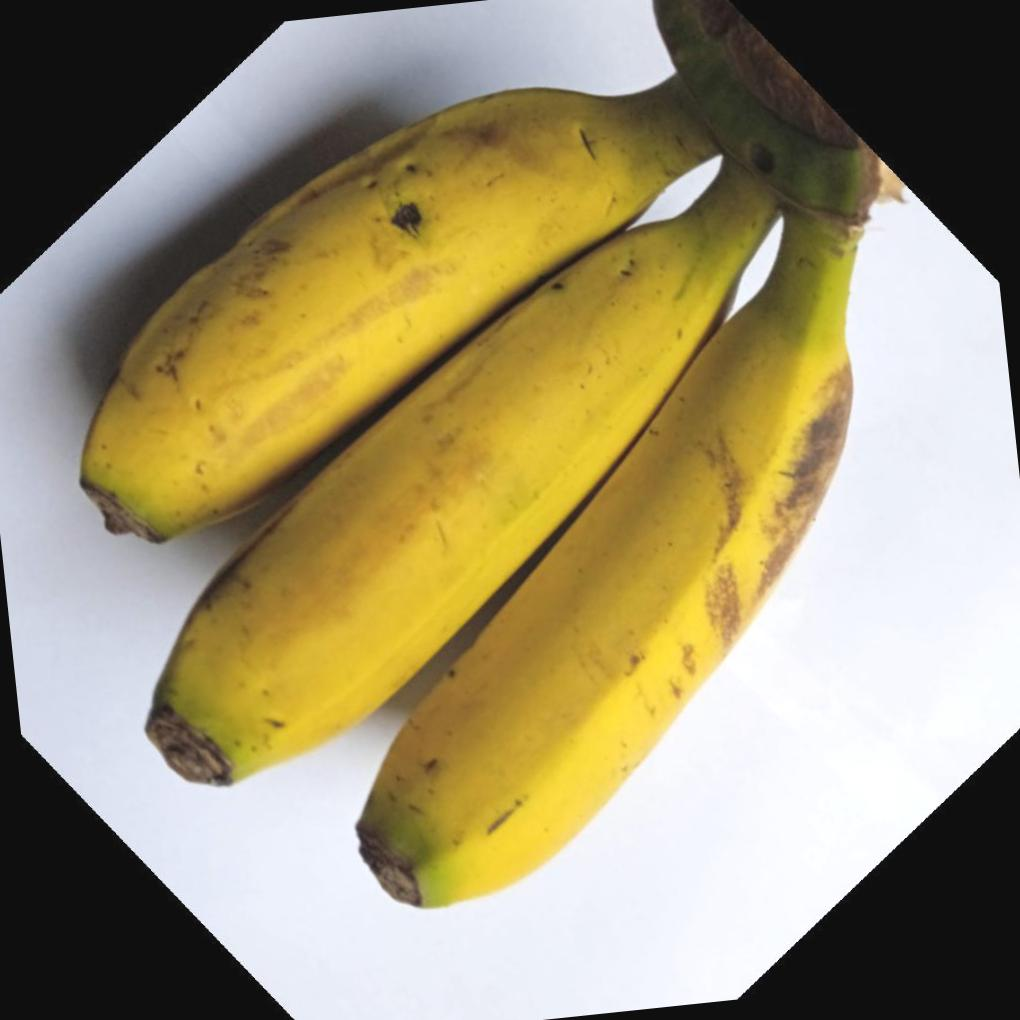Banana Ripe: (35, 12, 976, 937)
